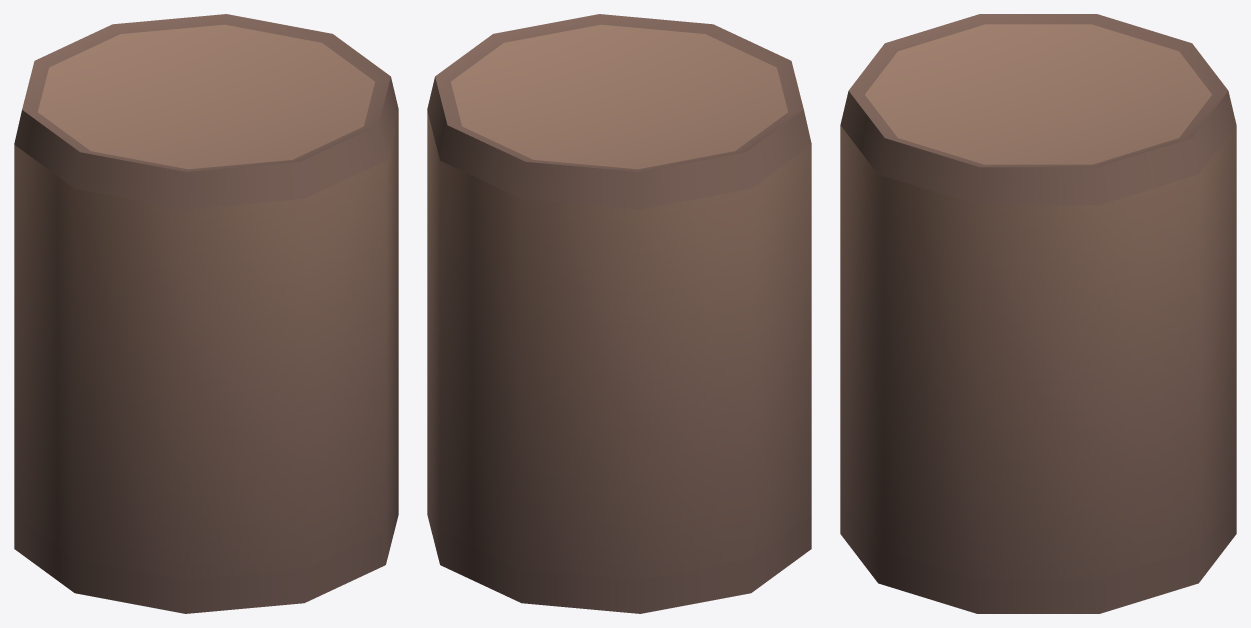
Rendered from can_brown.fbx.
3 views of the same model, side by side, from view 1: azimuth 30°, elevation 25°; view 2: azimuth 150°, elevation 25°; view 3: azimuth 270°, elevation 25° (orthographic).
Visible parts, largest first — view 1: can_brown; view 2: can_brown; view 3: can_brown.
Boxes of the visible parts, <box> form: can_brown: <box>14,14,398,613</box>; can_brown: <box>427,14,811,613</box>; can_brown: <box>840,14,1236,613</box>.
Bounding box in the file's own units: 104 × 134 × 109.
